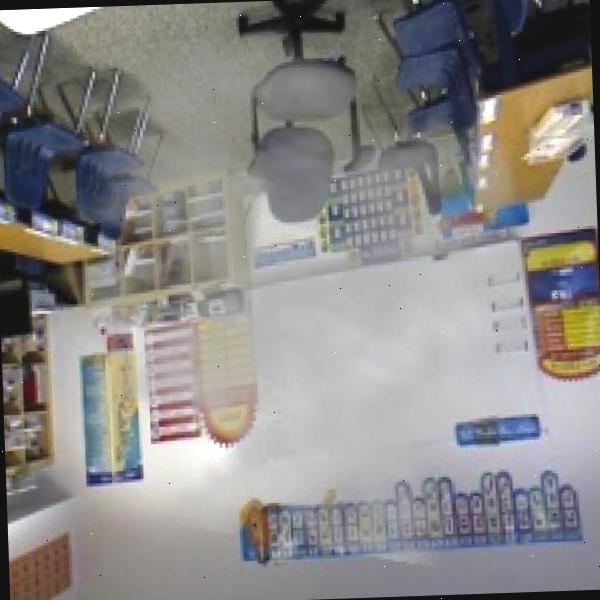smoke: (11, 16, 586, 583)
